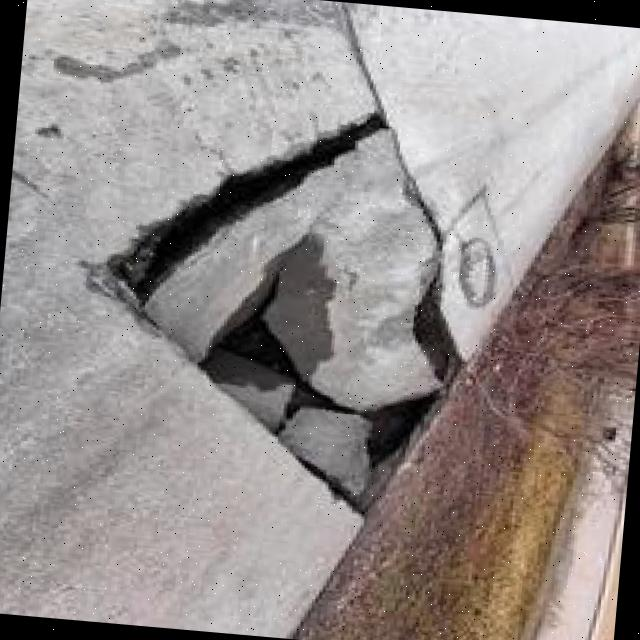road collapse: (14, 61, 562, 552)
